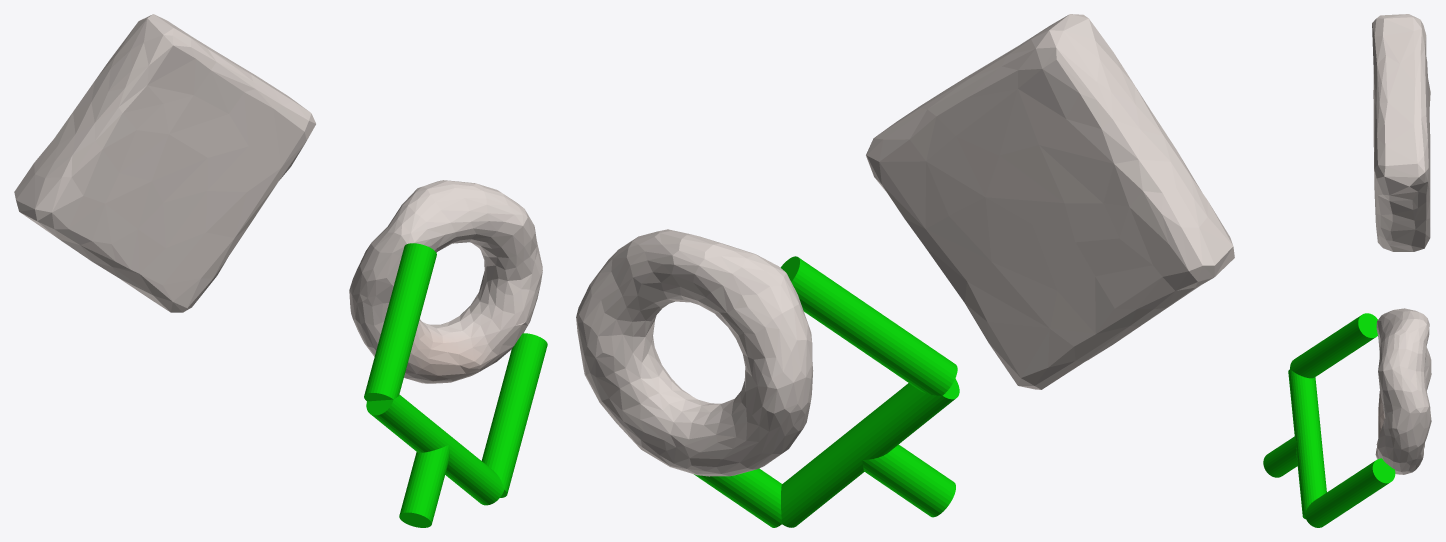
Rendered from round_000_trial_003.obj.
3 views of the same model, side by side, from view 1: azimuth 30°, elevation 25°; view 2: azimuth 150°, elevation 25°; view 3: azimuth 270°, elevation 25° (orthographic). The views are drawn at different scales.
Visible parts, largest first — view 1: geometry_0, geometry_1; view 2: geometry_0, geometry_1; view 3: geometry_0, geometry_1.
Boxes of the visible parts, <box> form: geometry_0: <box>14,14,542,383</box>; geometry_1: <box>364,243,547,527</box>; geometry_0: <box>576,14,1234,476</box>; geometry_1: <box>694,256,959,527</box>; geometry_0: <box>1372,14,1431,474</box>; geometry_1: <box>1263,313,1395,527</box>.
Size of the model in its own units: 0.1766 by 0.1672 by 0.0635.
